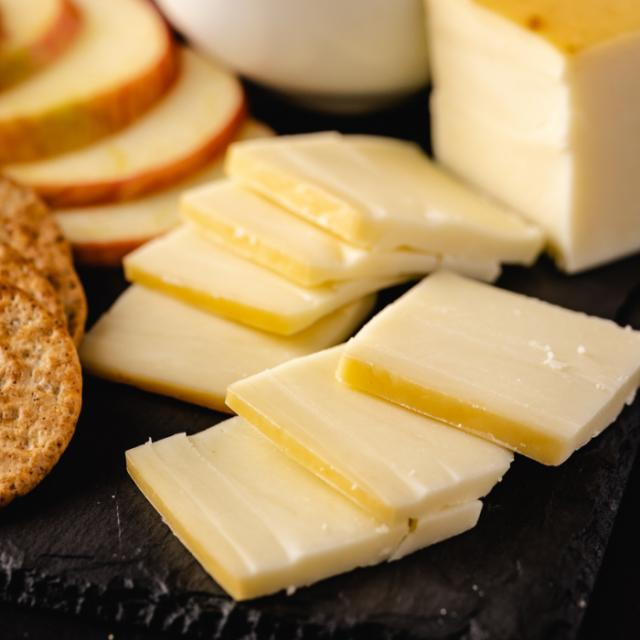Apple: (0, 0, 298, 223)
Bread: (0, 170, 90, 521)
Cheese: (99, 132, 545, 406), (128, 388, 486, 616), (327, 264, 640, 478), (227, 318, 532, 525), (429, 0, 640, 276)
